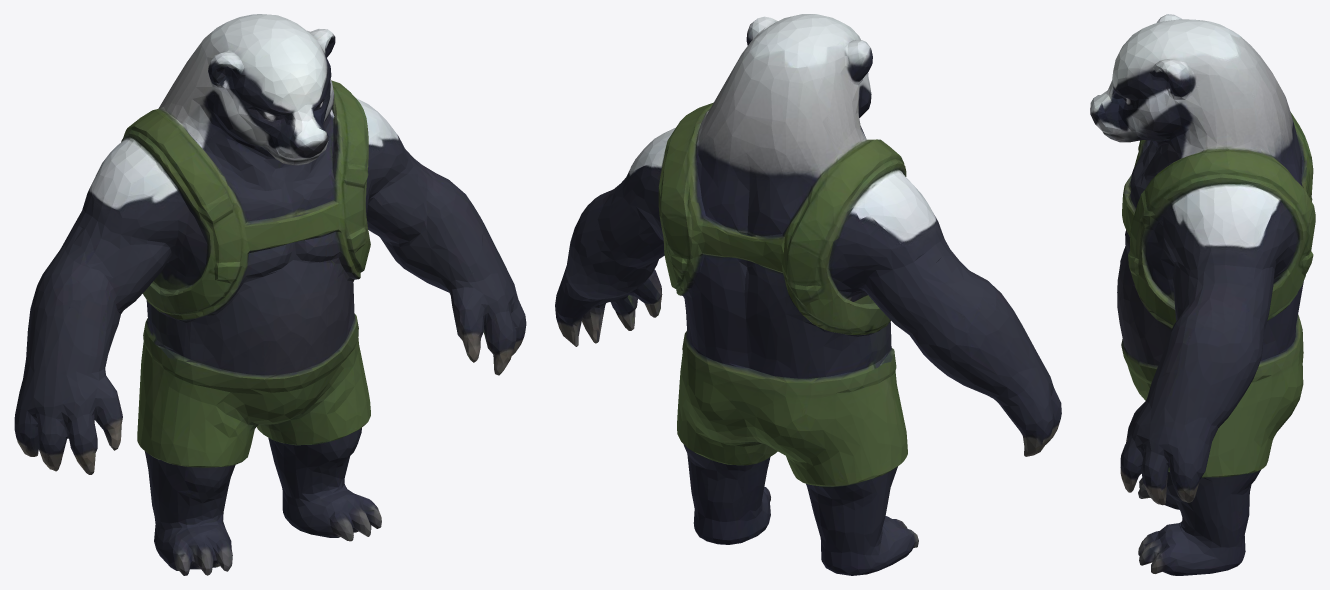
The model's file is badger.glb.
3 views of the same model, side by side, from view 1: azimuth 30°, elevation 25°; view 2: azimuth 150°, elevation 25°; view 3: azimuth 270°, elevation 25° (orthographic). The views are drawn at different scales.
Parts seen in each view (by area): view 1: tmpjlak4n09.ply; view 2: tmpjlak4n09.ply; view 3: tmpjlak4n09.ply.
Part boxes in pixels (bbox=[...]): tmpjlak4n09.ply: bbox=[14, 14, 526, 575]; tmpjlak4n09.ply: bbox=[555, 14, 1061, 575]; tmpjlak4n09.ply: bbox=[1090, 14, 1315, 575].
Bounding box in the file's own units: 1.48 × 1.48 × 0.5972.
1 material, 1 textured.
